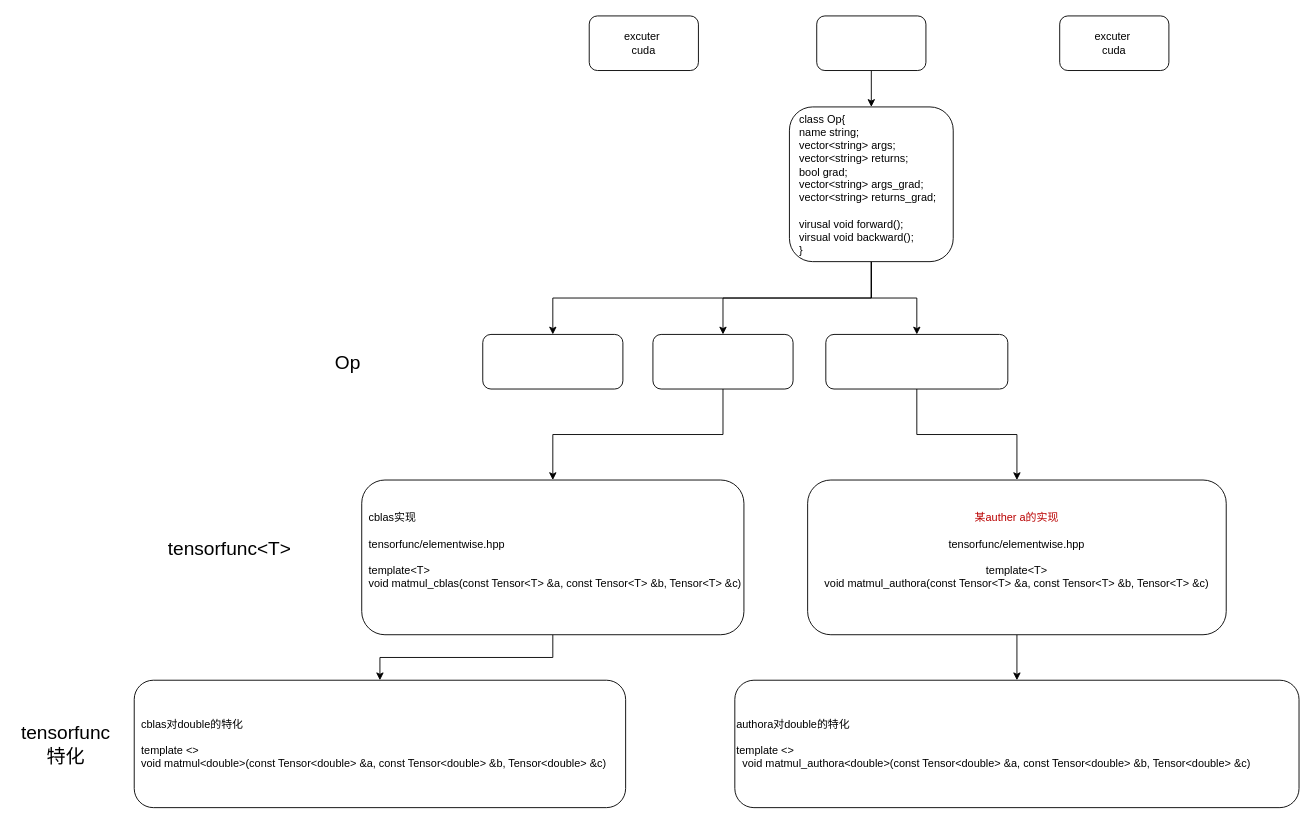
Image size: 1315x824. Some labels were removed from this diagram. Here are the shapes that lost their labels. From the top down, the centre of each, then its label:
the point at 871,43: excuter cpu
the point at 552,361: 默认的matmul 会选其中一个作为默认 template <T > class Matmul:Op
the point at 722,361: openblas的matmul实现 template <T > class Matmul_cblas:Op
the point at 916,361: 某auther a的实现 template <T > class Matmul_authora:Op
